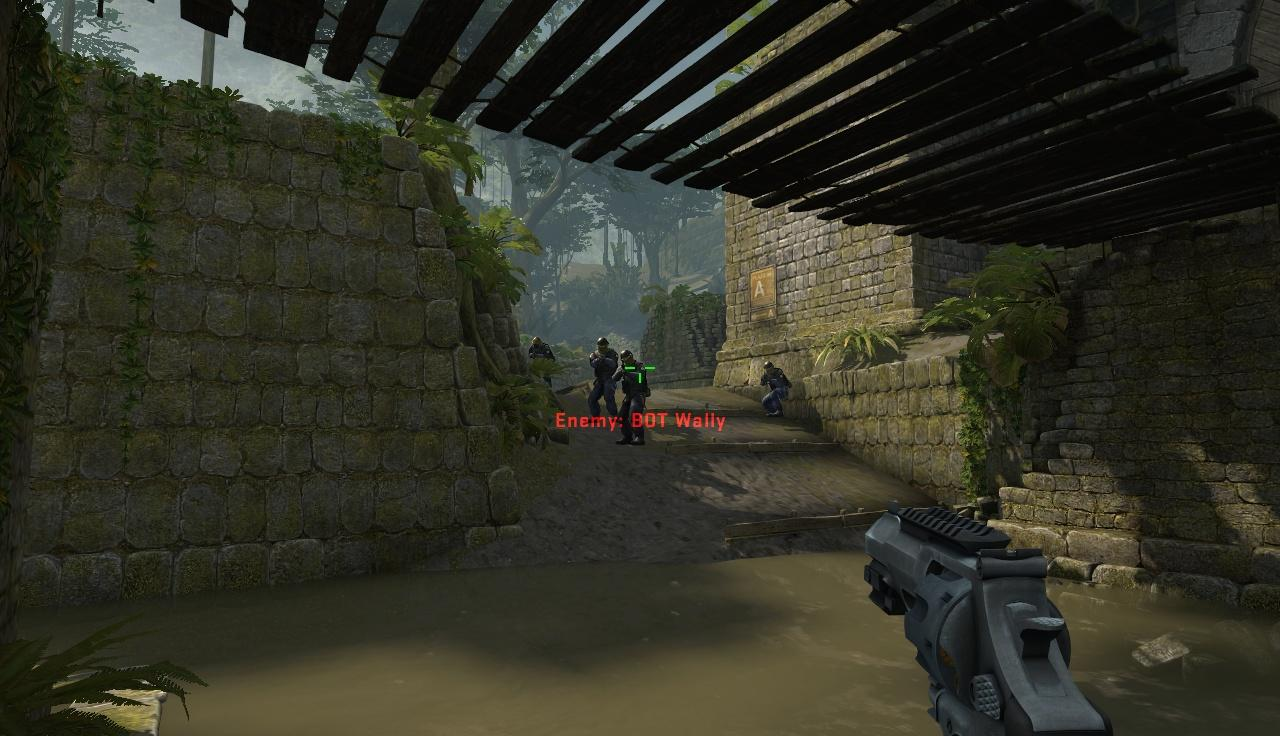ct: (616, 349, 647, 445), (589, 338, 618, 434), (761, 363, 790, 417), (528, 335, 554, 360)
cthead: (596, 337, 609, 355), (620, 350, 634, 365), (763, 362, 776, 375), (532, 336, 542, 348)
pistol: (856, 503, 1133, 736)
